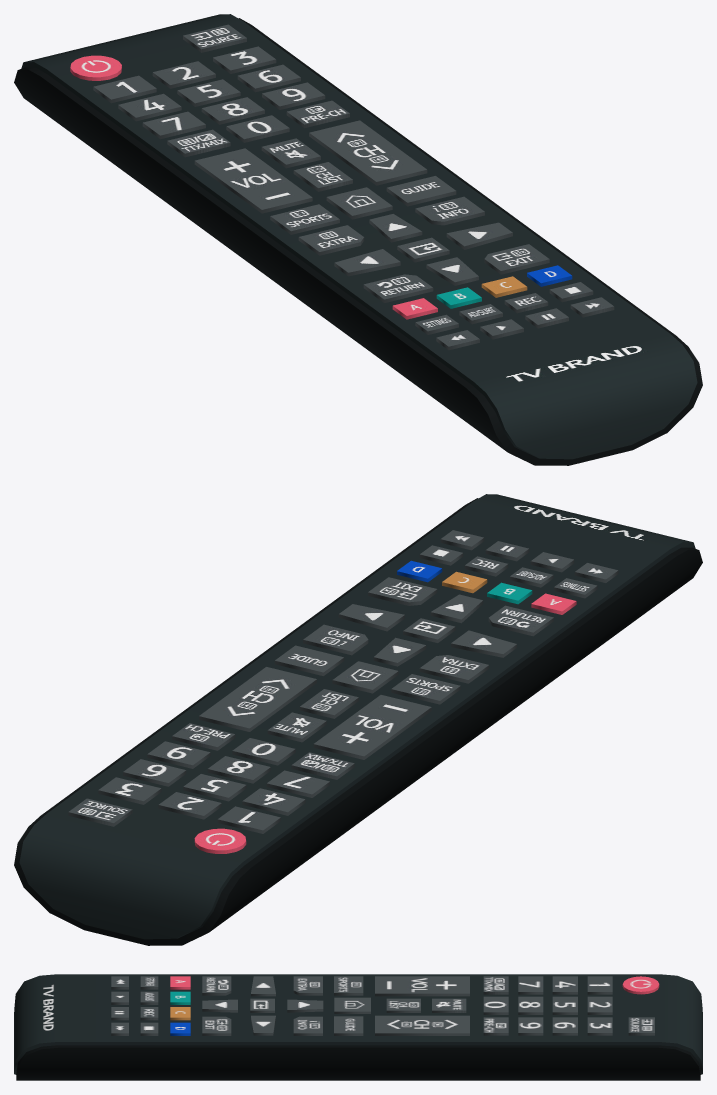
Rendered from sweethome3d-scopia-tv-remote-control-301.glb.
3 renders of one model, top to bottom at view 1: azimuth 30°, elevation 25°; view 2: azimuth 150°, elevation 25°; view 3: azimuth 270°, elevation 25°, orthographic. The views are drawn at different scales.
Parts seen in each view (by area): view 1: Plane_Plane.001; view 2: Plane_Plane.001; view 3: Plane_Plane.001.
Boxes of the visible parts, x1,y1,x2,y2 form: Plane_Plane.001: [14, 14, 702, 465]; Plane_Plane.001: [14, 494, 702, 945]; Plane_Plane.001: [14, 974, 702, 1080].
Size of the model in its own units: 4.51 by 1.69 by 18.04.
3 materials, 3 textured.
